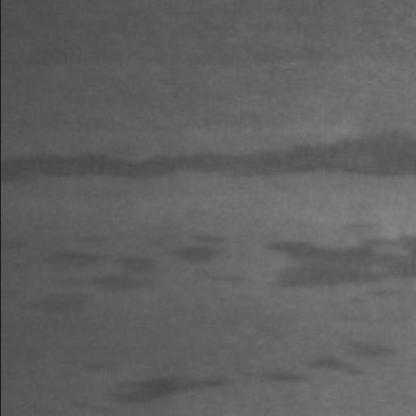inclusion: (0, 122, 410, 202), (73, 330, 387, 402), (2, 218, 150, 316), (260, 231, 414, 287), (158, 229, 244, 281)
